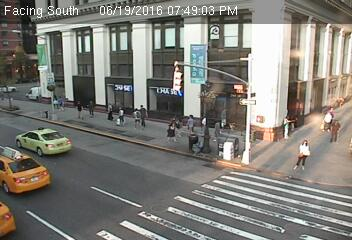neg: (184, 193, 210, 227), (288, 63, 311, 93), (234, 200, 256, 230), (237, 90, 259, 119), (30, 171, 51, 199), (14, 97, 35, 124), (147, 151, 167, 178), (323, 49, 343, 75), (140, 44, 159, 70), (23, 53, 42, 78), (96, 36, 114, 60), (107, 144, 123, 165), (218, 127, 231, 144)
pos: (291, 136, 316, 169), (277, 112, 296, 137), (329, 120, 346, 143), (184, 111, 201, 134), (164, 120, 181, 142), (84, 98, 100, 119), (71, 98, 87, 119), (102, 101, 117, 121), (114, 105, 129, 124)
